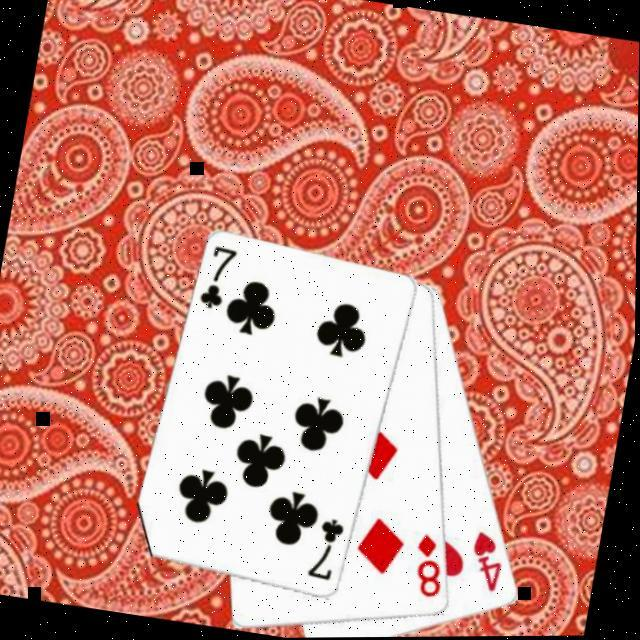4H: (462, 530, 511, 599)
7C: (302, 516, 348, 588), (194, 243, 239, 316)
8D: (406, 532, 452, 604)
